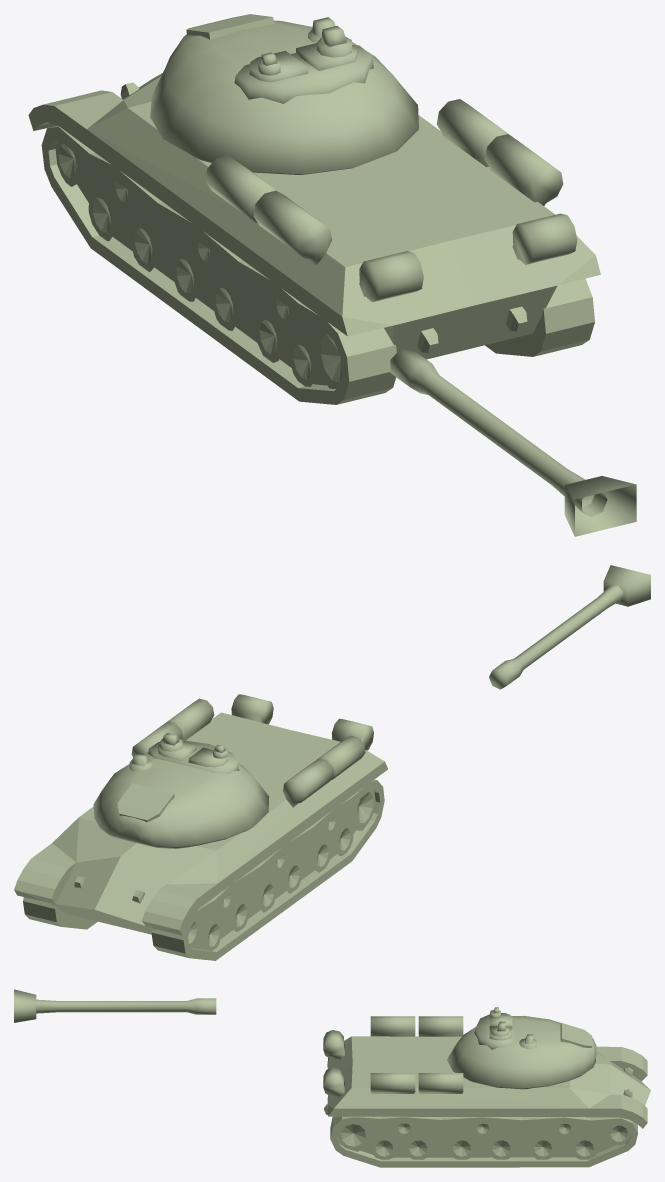
The picture shows the model from 3 angles, top to bottom: view 1: azimuth 30°, elevation 25°; view 2: azimuth 150°, elevation 25°; view 3: azimuth 270°, elevation 25°; orthographic projection. The views are drawn at different scales.
Parts seen in each view (by area): view 1: is_3_hull, is_3_turret, is_3_turret.001; view 2: is_3_hull, is_3_turret, is_3_turret.001; view 3: is_3_hull, is_3_turret, is_3_turret.001.
Boxes of the visible parts, x1,y1,x2,y2 form: is_3_hull: (28, 73, 600, 404); is_3_turret: (150, 14, 418, 174); is_3_turret.001: (390, 349, 636, 536); is_3_hull: (14, 694, 387, 960); is_3_turret: (93, 733, 269, 848); is_3_turret.001: (489, 565, 650, 689); is_3_hull: (323, 1016, 650, 1167); is_3_turret: (447, 1007, 596, 1089); is_3_turret.001: (14, 989, 216, 1022).
Bounding box in the file's own units: 1.72 × 1.16 × 5.5.
